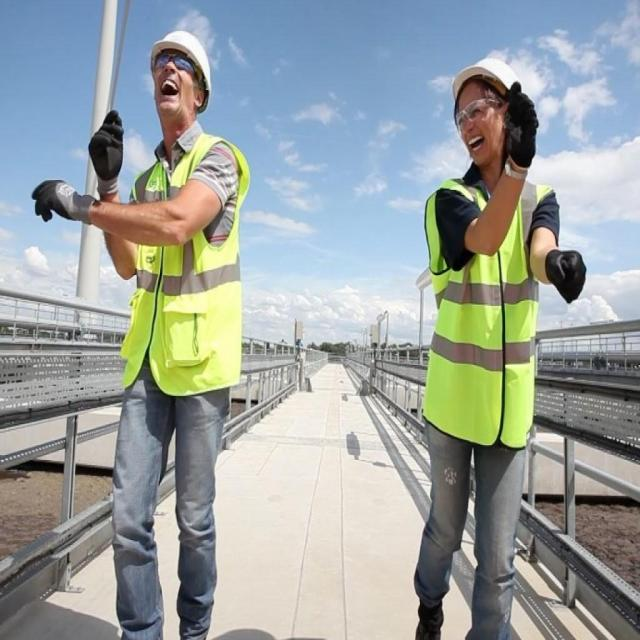Reflective-Jacket: (412, 168, 560, 458), (116, 134, 259, 396)
Safety-Helmet: (444, 42, 528, 112), (145, 20, 219, 94)
